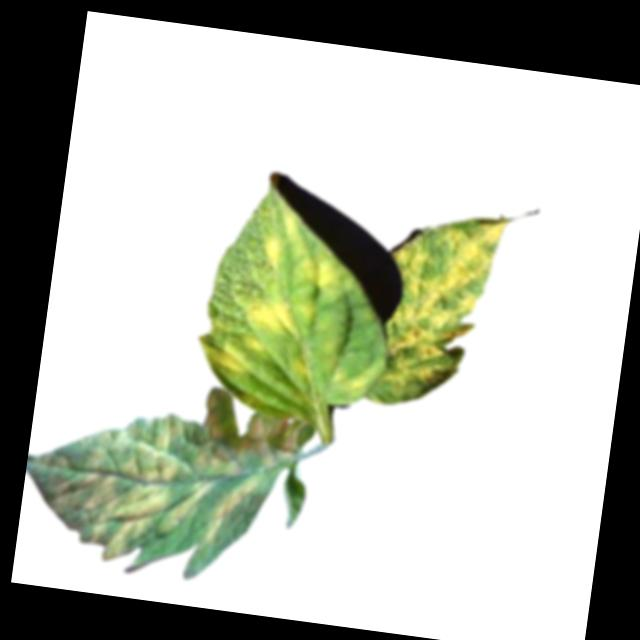Leaf_Mold: (14, 382, 296, 593), (378, 205, 511, 425), (242, 290, 323, 339), (194, 329, 264, 376), (328, 353, 378, 402), (297, 252, 348, 294), (259, 228, 288, 271)
